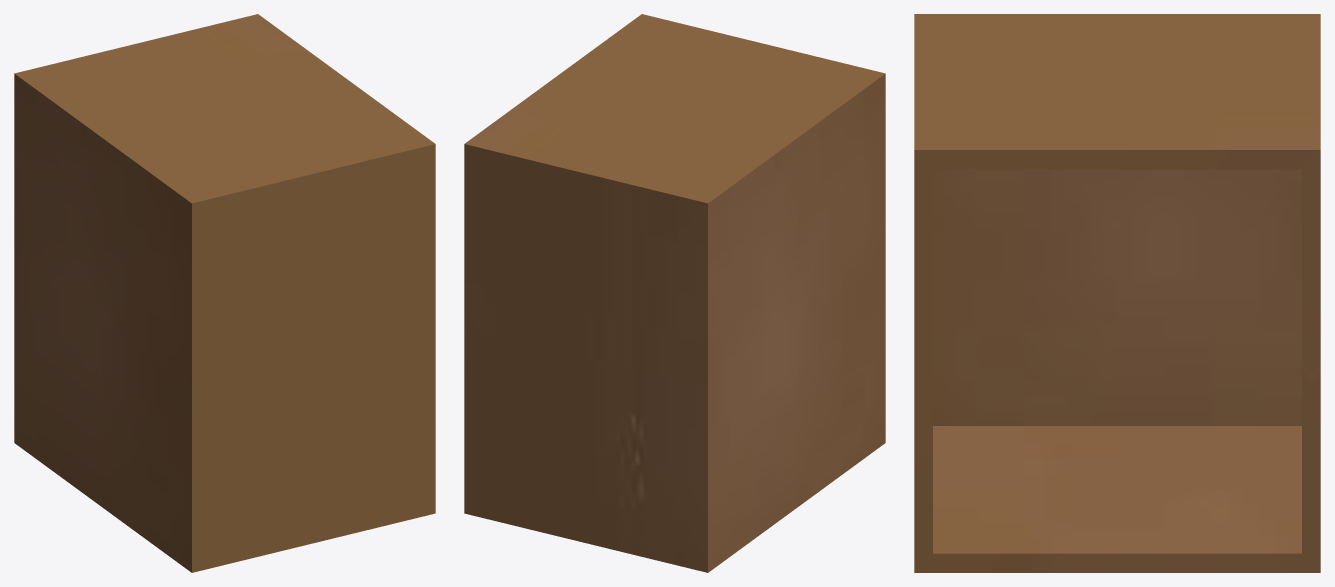
File: DolapDışı.fbx
3 renders of one model, left to right at view 1: azimuth 30°, elevation 25°; view 2: azimuth 150°, elevation 25°; view 3: azimuth 270°, elevation 25°, orthographic. The views are drawn at different scales.
Parts seen in each view (by area): view 1: Cube.009; view 2: Cube.009; view 3: Cube.009.
Boxes of the visible parts, x1,y1,x2,y2 form: Cube.009: (14,14,435,572); Cube.009: (464,14,885,572); Cube.009: (914,14,1320,572).
Bounding box in the file's own units: 121 × 175 × 153.
Materials: 1 (1 with a texture image).
